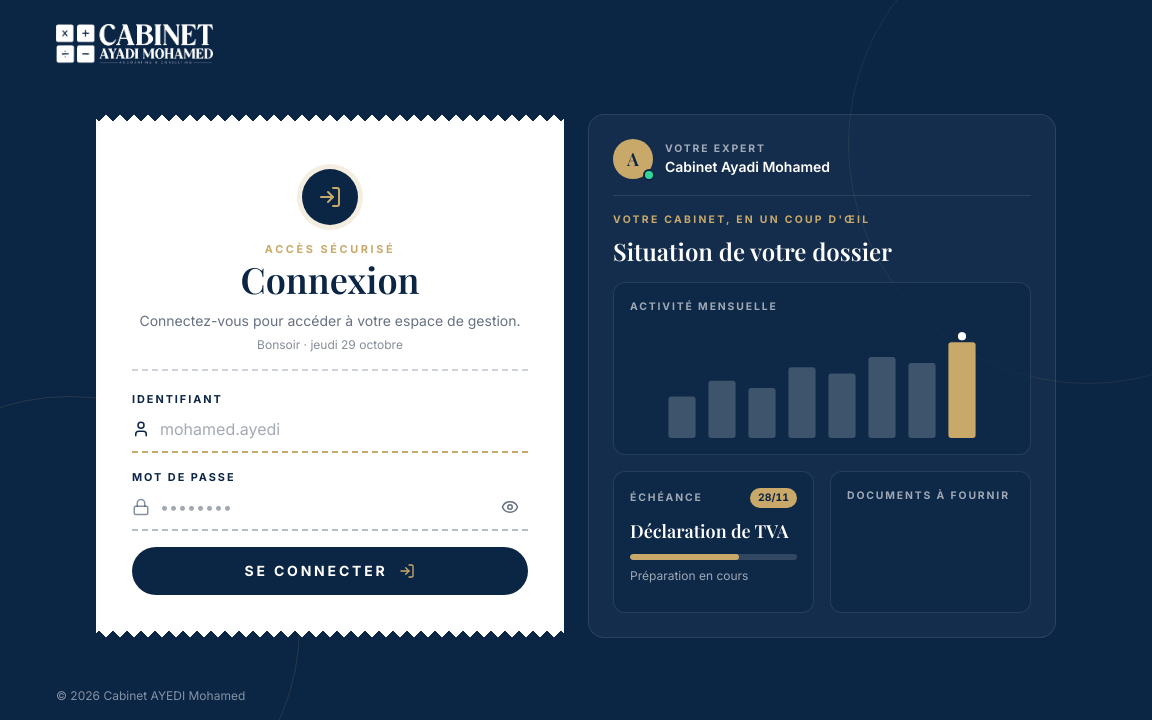
it: page de connexion : accueil personnalisé › raccourcit un très long prénom
Type "abcdefghijklmnopqrstuvwxyz" into the field labelled "Identifiant" at [344, 429], box [160,407,528,451]
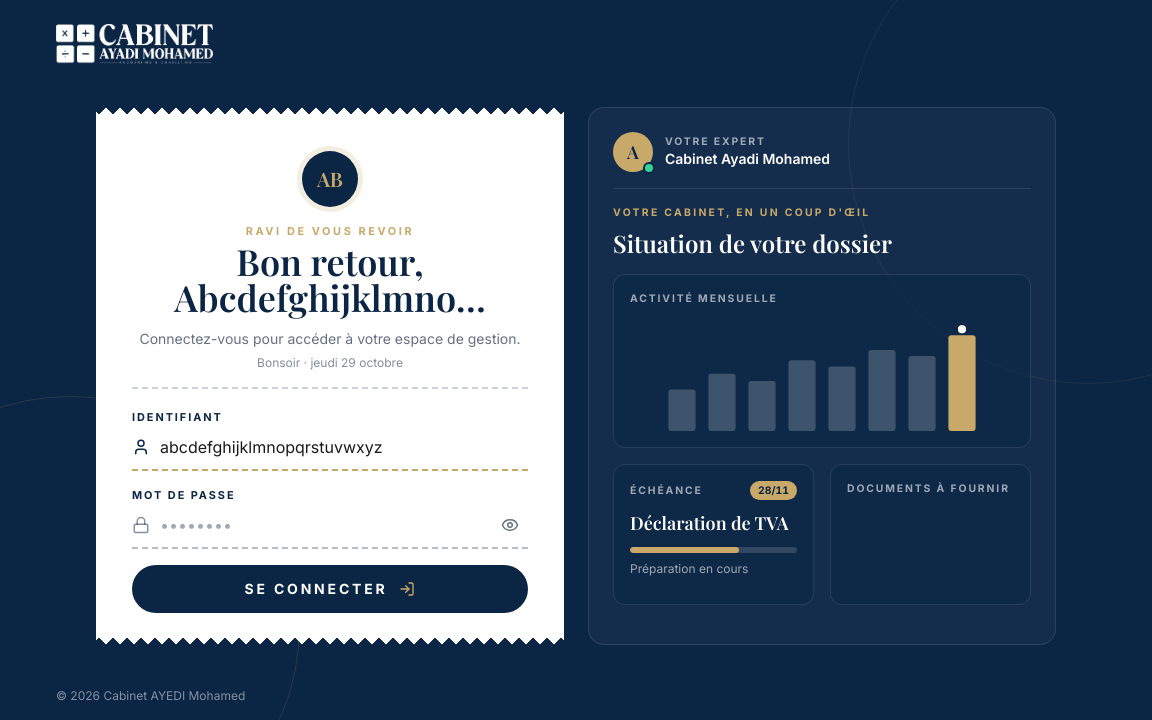
Now the heading "Bon retour, Abcdefghijklmno…" is shown, box [174,237,486,321]
